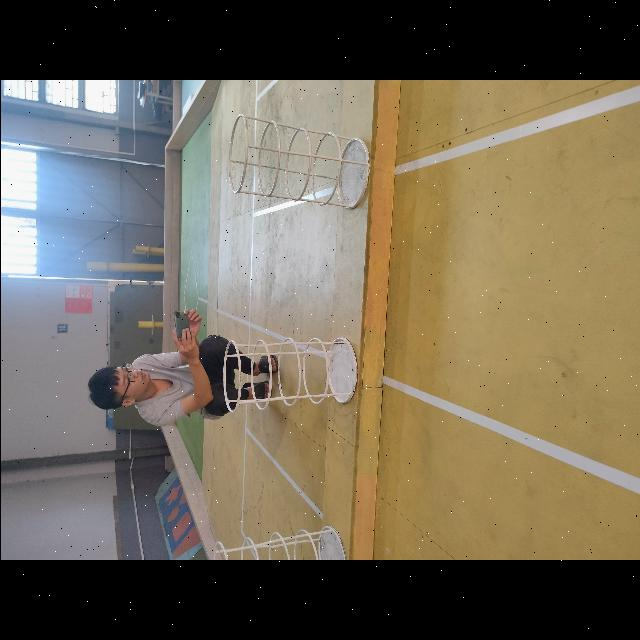S: (227, 113, 370, 211), (221, 337, 357, 413), (213, 525, 346, 560)
